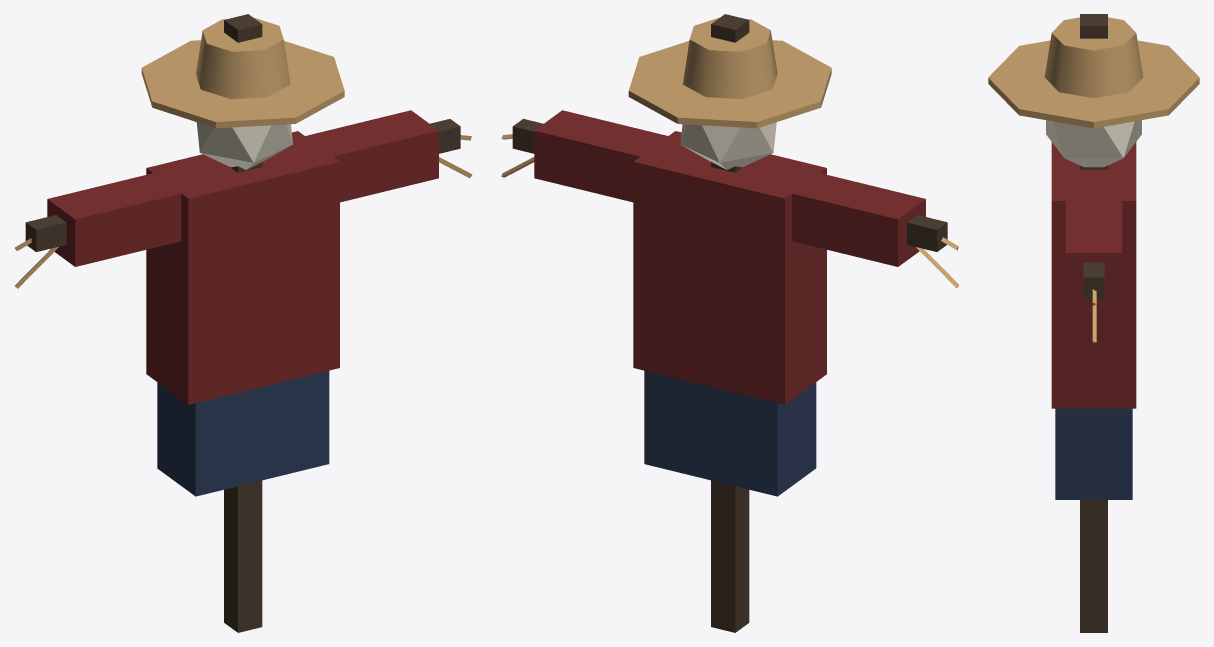
Rendered from scarecrow.glb.
3 renders of one model, left to right at view 1: azimuth 30°, elevation 25°; view 2: azimuth 150°, elevation 25°; view 3: azimuth 270°, elevation 25°, orthographic.
Visible parts, largest first — view 1: scarecrow; view 2: scarecrow; view 3: scarecrow.
Boxes of the visible parts, x1,y1,x2,y2 form: scarecrow: (15,14,472,632); scarecrow: (501,14,958,632); scarecrow: (988,14,1199,632).
Size of the model in its own units: 1.51 by 1.9 by 0.6.
Materials: 1 (1 with a texture image).
